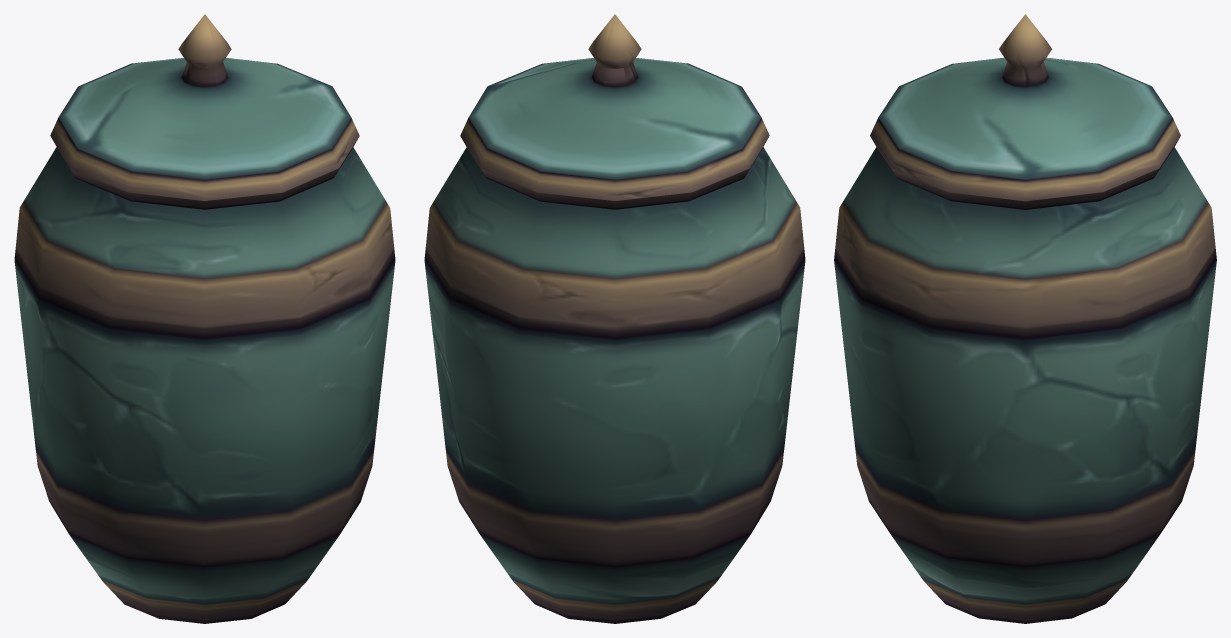
File: urn_03.fbx
3 views of the same model, side by side, from view 1: azimuth 30°, elevation 25°; view 2: azimuth 150°, elevation 25°; view 3: azimuth 270°, elevation 25° (orthographic).
Visible parts, largest first — view 1: urn_03; view 2: urn_03; view 3: urn_03.
Boxes of the visible parts, x1=… form: urn_03: x1=14, y1=14, x2=395, y2=623; urn_03: x1=424, y1=14, x2=805, y2=623; urn_03: x1=834, y1=14, x2=1216, y2=623.
Size of the model in its own units: 11.27 by 18.54 by 11.27.
